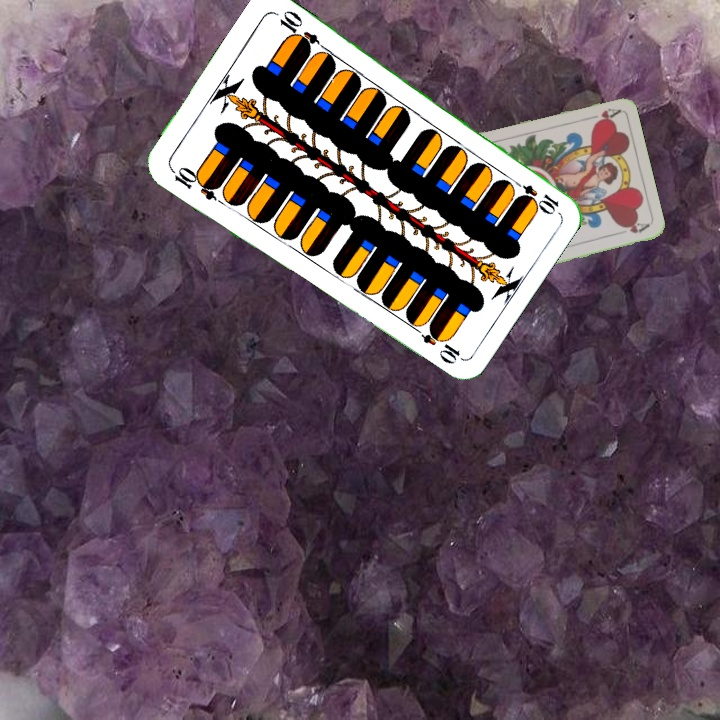E10: (506, 175, 562, 216), (166, 162, 222, 203)
HA: (581, 104, 621, 127)
